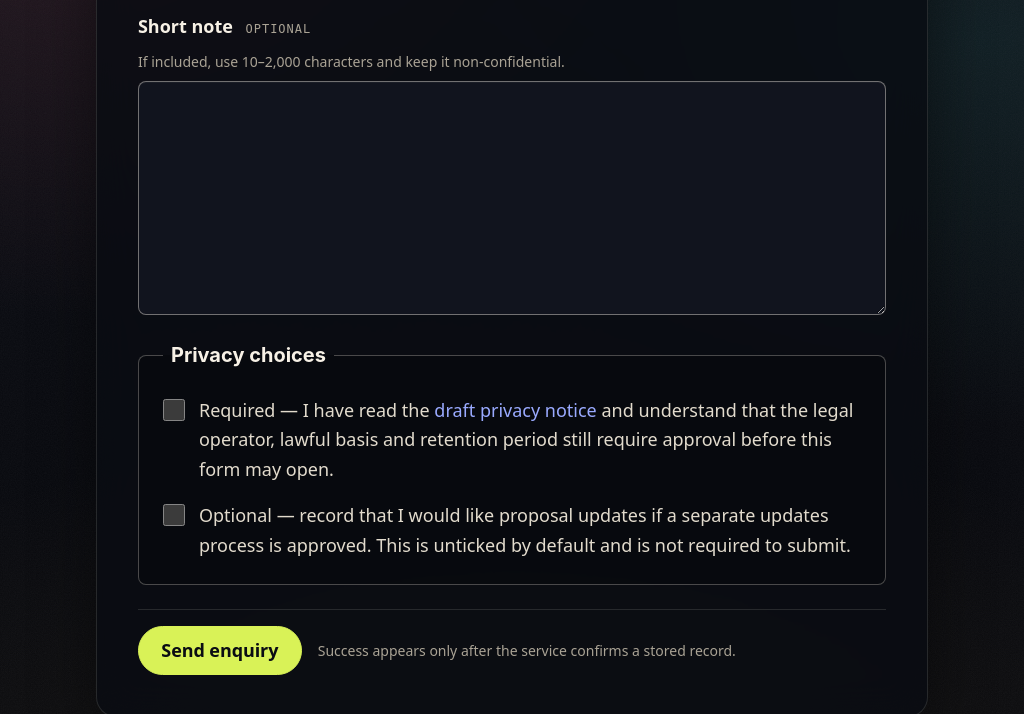
Test: enquiry form workstream › focuses an accessible error summary linked to invalid fields
(page scrolled)
Click the button "Send enquiry". click: (220,651)
box: x1=138 y1=626 x2=302 y2=675
(page scrolled)
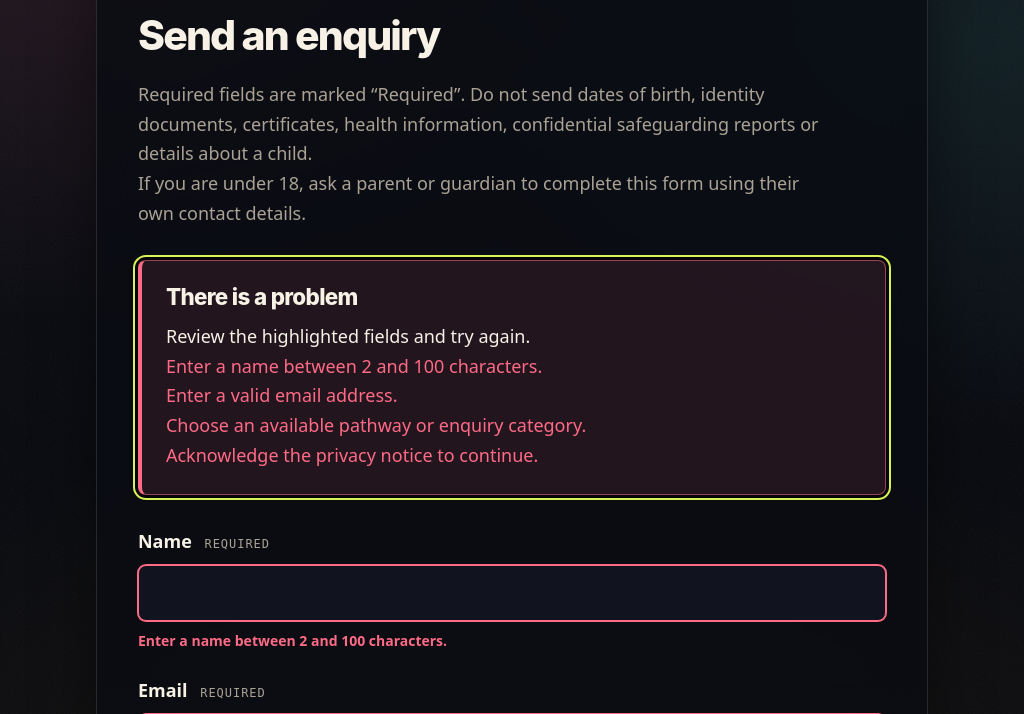
Expected: the message shows "There is a problem", x1=166 y1=283 x2=358 y2=310
Expected: the link with id "enquiry-name" is shown, x1=166 y1=354 x2=542 y2=378
